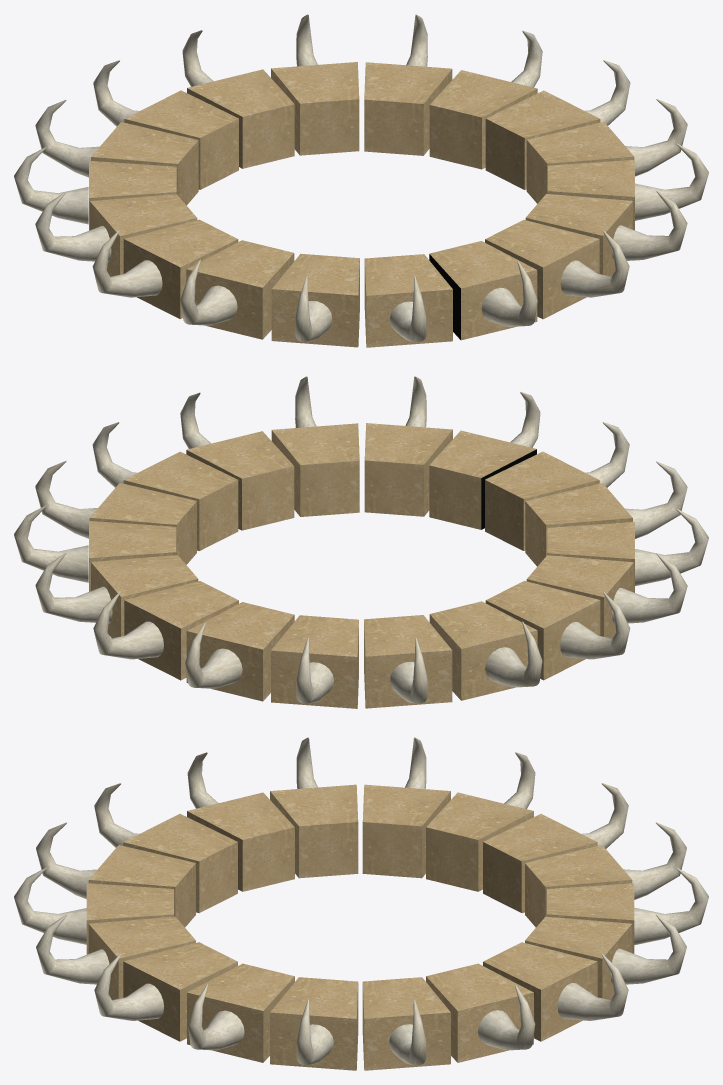
Rendered from Portail_Démoniaque.FBX.
The picture shows the model from 3 angles, top to bottom: view 1: azimuth 30°, elevation 25°; view 2: azimuth 150°, elevation 25°; view 3: azimuth 270°, elevation 25°; orthographic projection.
Parts seen in each view (by area): view 1: Box015, Box010, Box018, Box016, Box011, Box017, Box003, Box002, Box004, Box001, Box005, Box009 (+6 smaller); view 2: Box008, Box001, Box007, Box009, Box002, Box006, Box012, Box011, Box013, Box010, Box014, Box016 (+6 smaller); view 3: Box003, Box014, Box005, Box012, Box004, Box013, Box006, Box017, Box008, Box015, Box007, Box018 (+6 smaller).
Boxes of the visible parts, x1,y1,x2,y2 form: Box015: (180, 240, 294, 339); Box010: (429, 241, 537, 340); Box018: (271, 253, 359, 347); Box016: (364, 254, 452, 347); Box011: (485, 220, 629, 319); Box017: (92, 219, 238, 319); Box003: (364, 14, 452, 155); Box002: (271, 14, 359, 155); Box004: (429, 30, 542, 169); Box001: (182, 30, 294, 168); Box005: (485, 60, 630, 189); Box009: (93, 60, 238, 189); Box008: (429, 601, 542, 700); Box001: (185, 602, 294, 701); Box007: (364, 615, 452, 708); Box009: (271, 615, 358, 708); Box002: (93, 581, 238, 680); Box006: (485, 581, 630, 680); Box012: (271, 376, 359, 516); Box011: (364, 376, 452, 516); Box013: (180, 392, 294, 530); Box010: (429, 392, 540, 529); Box014: (92, 422, 238, 550); Box016: (485, 422, 629, 550); Box003: (483, 942, 628, 1041); Box014: (270, 977, 358, 1070); Box005: (362, 977, 450, 1070); Box012: (94, 942, 237, 1041); Box004: (426, 963, 535, 1062); Box013: (187, 963, 294, 1062); Box006: (362, 737, 450, 878); Box017: (270, 737, 358, 878); Box008: (426, 752, 535, 891); Box015: (187, 752, 294, 891); Box007: (483, 783, 628, 912); Box018: (94, 783, 237, 912).
Size of the model in its own units: 127 by 17.47 by 129.
